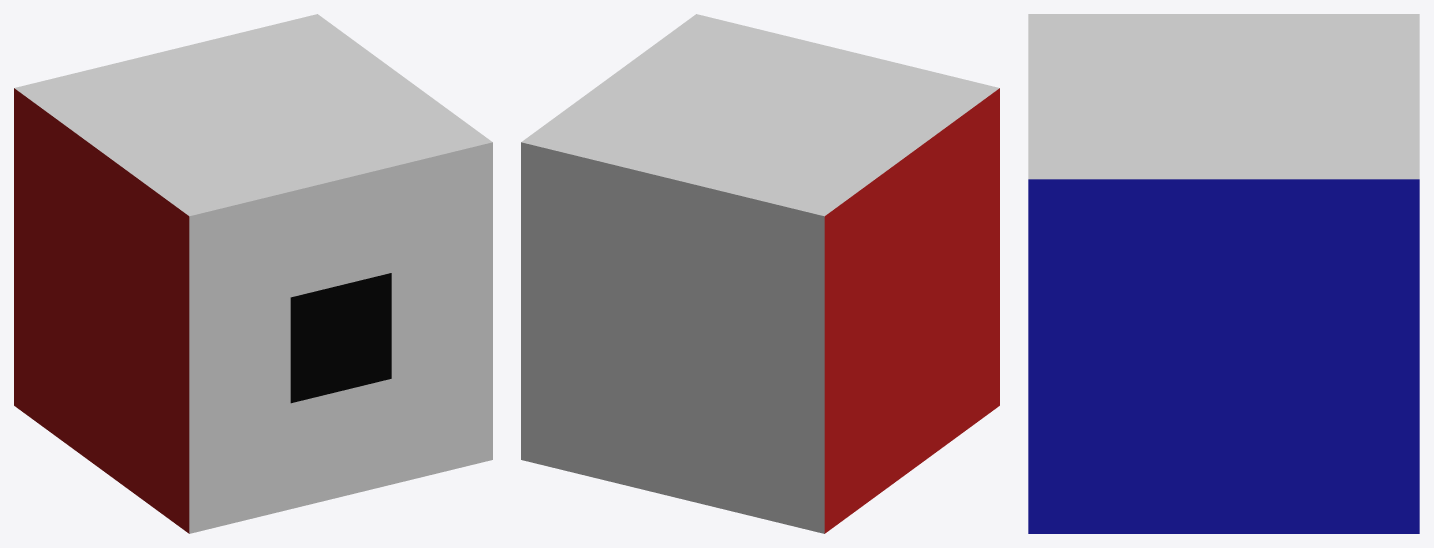
File: red_blue_cornell_box_692.obj
The picture shows the model from 3 angles, left to right: view 1: azimuth 30°, elevation 25°; view 2: azimuth 150°, elevation 25°; view 3: azimuth 270°, elevation 25°; orthographic projection. The views are drawn at different scales.
Size of the model in its own units: 72 by 72 by 72.
